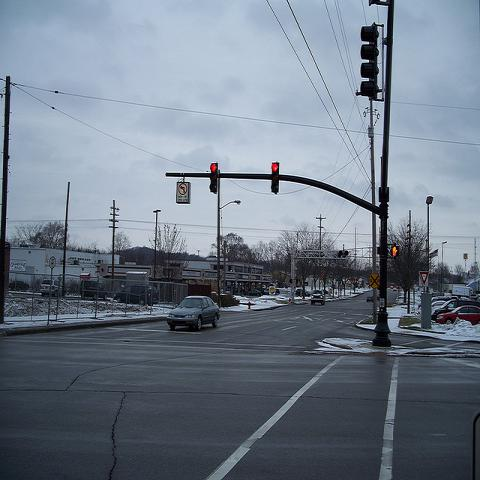car: (167, 295, 221, 332), (431, 299, 479, 322), (112, 284, 158, 306), (437, 306, 479, 324), (80, 278, 108, 302), (309, 288, 324, 305), (9, 279, 29, 291), (52, 279, 66, 296), (39, 278, 51, 297), (430, 300, 447, 312), (247, 289, 261, 296), (366, 295, 374, 303)
